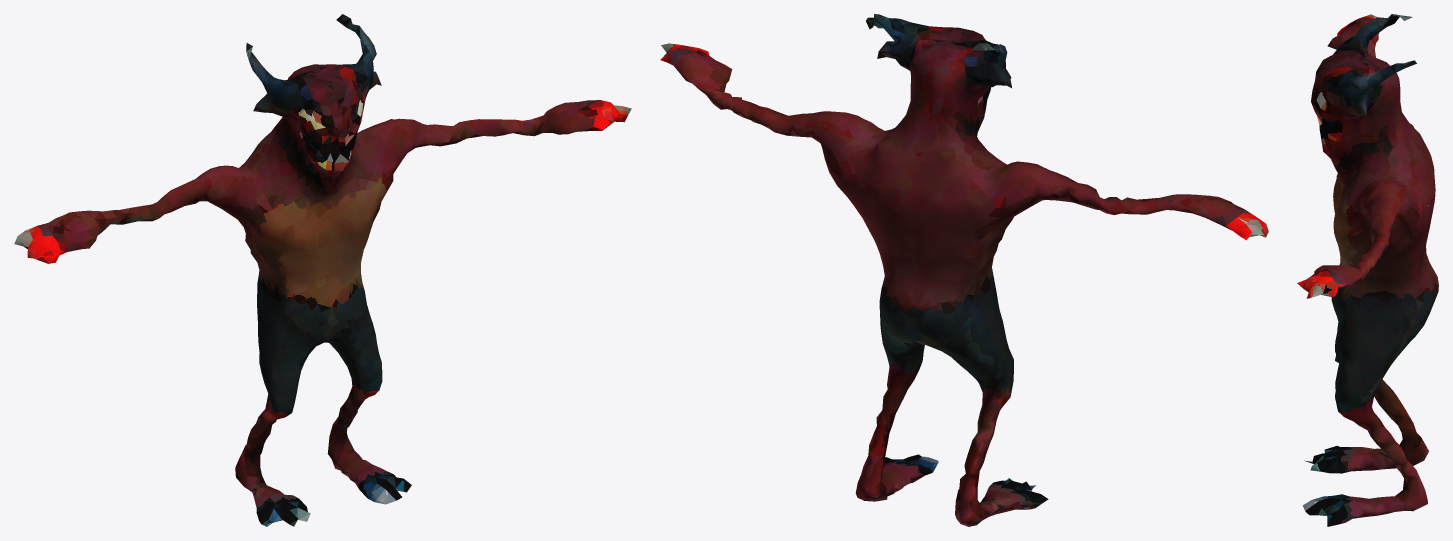
Rendered from demonios.glb.
3 views of the same model, side by side, from view 1: azimuth 30°, elevation 25°; view 2: azimuth 150°, elevation 25°; view 3: azimuth 270°, elevation 25° (orthographic). The views are drawn at different scales.
Parts seen in each view (by area): view 1: model; view 2: model; view 3: model.
Part boxes in pixels (x1=…): model: x1=14, y1=14, x2=631, y2=526; model: x1=660, y1=14, x2=1268, y2=526; model: x1=1297, y1=14, x2=1438, y2=526.
Size of the model in its own units: 2.39 by 1.76 by 0.4937.
1 material, 1 textured.
